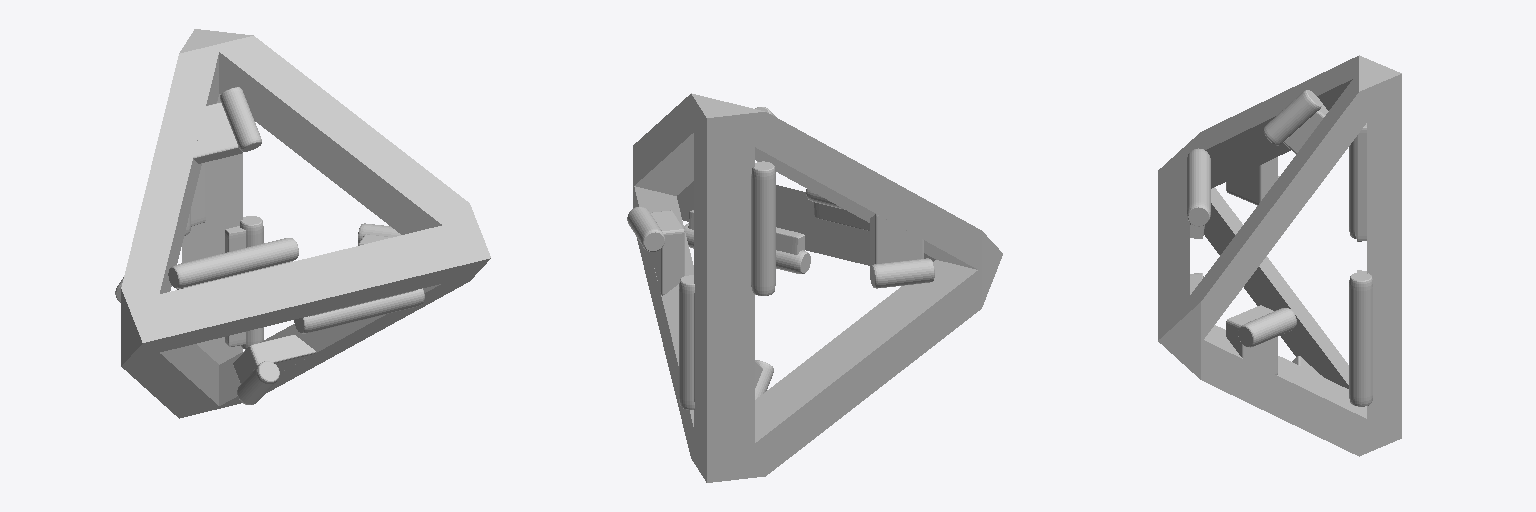
File: leaf2.obj
3 views of the same model, side by side, from view 1: azimuth 30°, elevation 25°; view 2: azimuth 150°, elevation 25°; view 3: azimuth 270°, elevation 25° (orthographic).
Bounding box in the file's own units: 3.29 × 3.29 × 2.